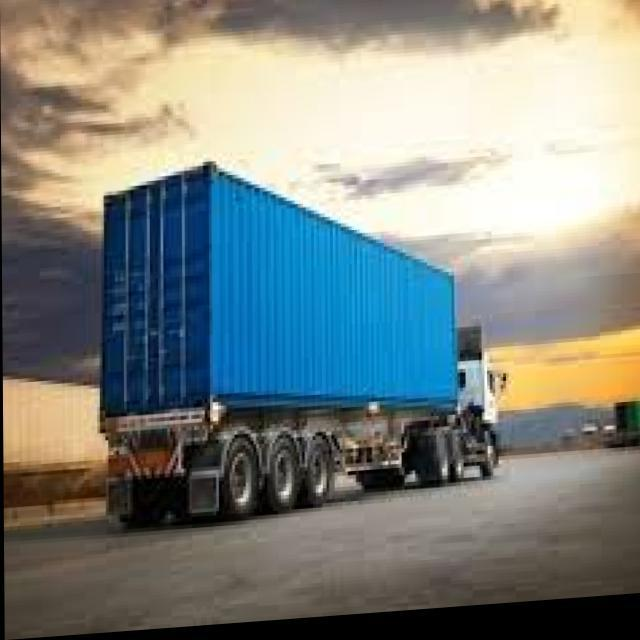covered: (95, 140, 503, 533)
